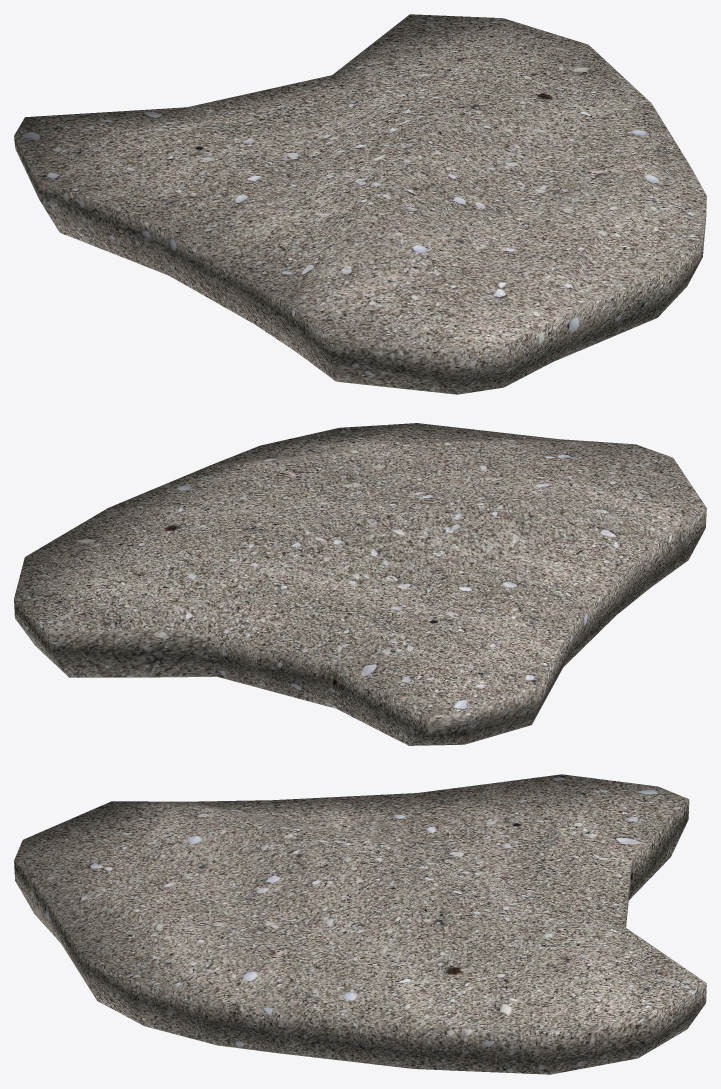
The model's file is chunk1.fbx.
3 renders of one model, top to bottom at view 1: azimuth 30°, elevation 25°; view 2: azimuth 150°, elevation 25°; view 3: azimuth 270°, elevation 25°, orthographic. The views are drawn at different scales.
Visible parts, largest first — view 1: Grid; view 2: Grid; view 3: Grid.
Boxes of the visible parts, left/top/right/bottom form: Grid: left=14, top=14, right=706, bottom=394; Grid: left=14, top=423, right=706, bottom=745; Grid: left=14, top=774, right=706, bottom=1074.
Bounding box in the file's own units: 168 × 32.91 × 191.
1 material, 1 textured.
